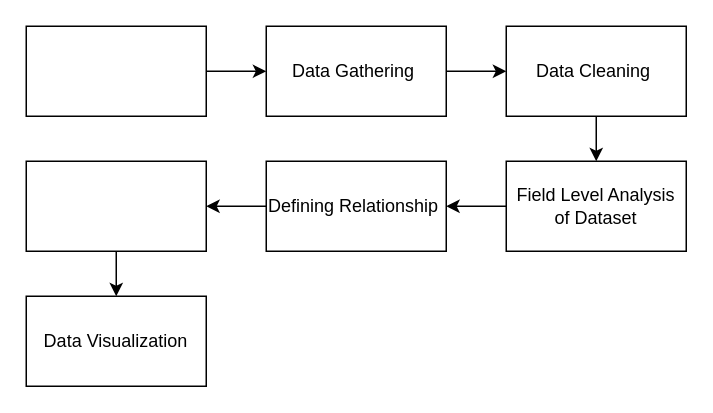
Some shapes in this 713 by 413 pixel diagram are drawn without their labels. The shapes that lost their labels are listed below. From the top down, each one's box as (x1, y1, x2, y2) in pixels, then its label:
(25, 25, 206, 116): Imported Data From Dataset
(25, 160, 206, 251): Data Preprocessing
